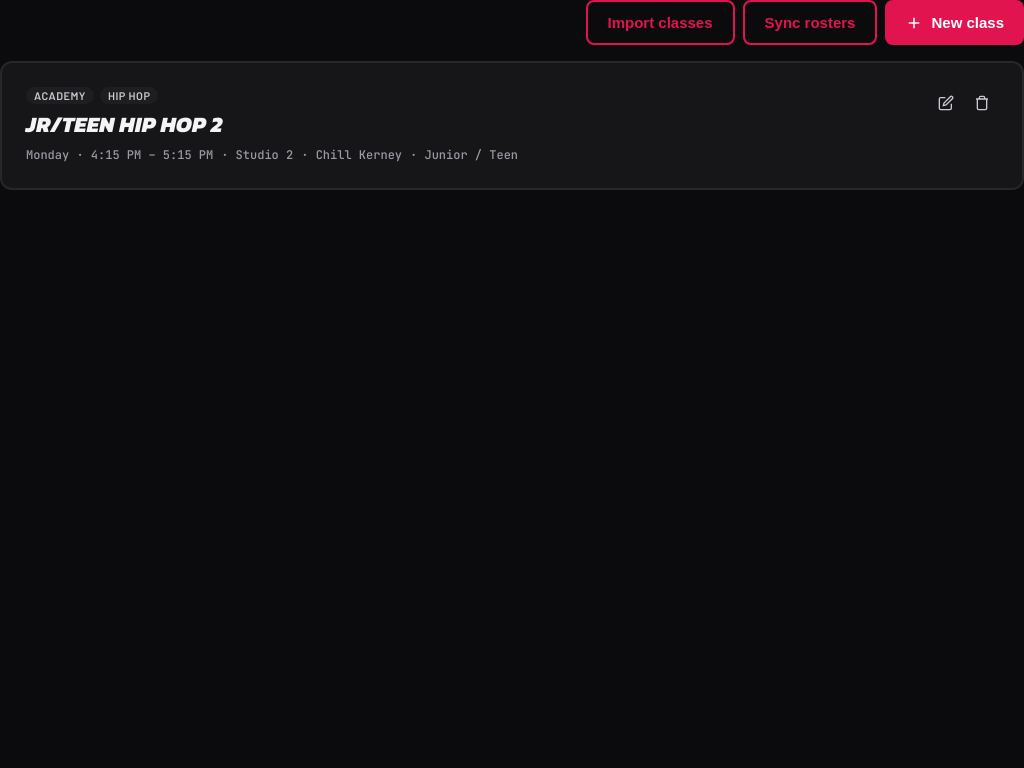
Test: validation › refuses an age range that runs backwards
Click the button named "Edit Jr/Teen Hip Hop 2": (946, 103) [930,87,962,119]
(page scrolled)
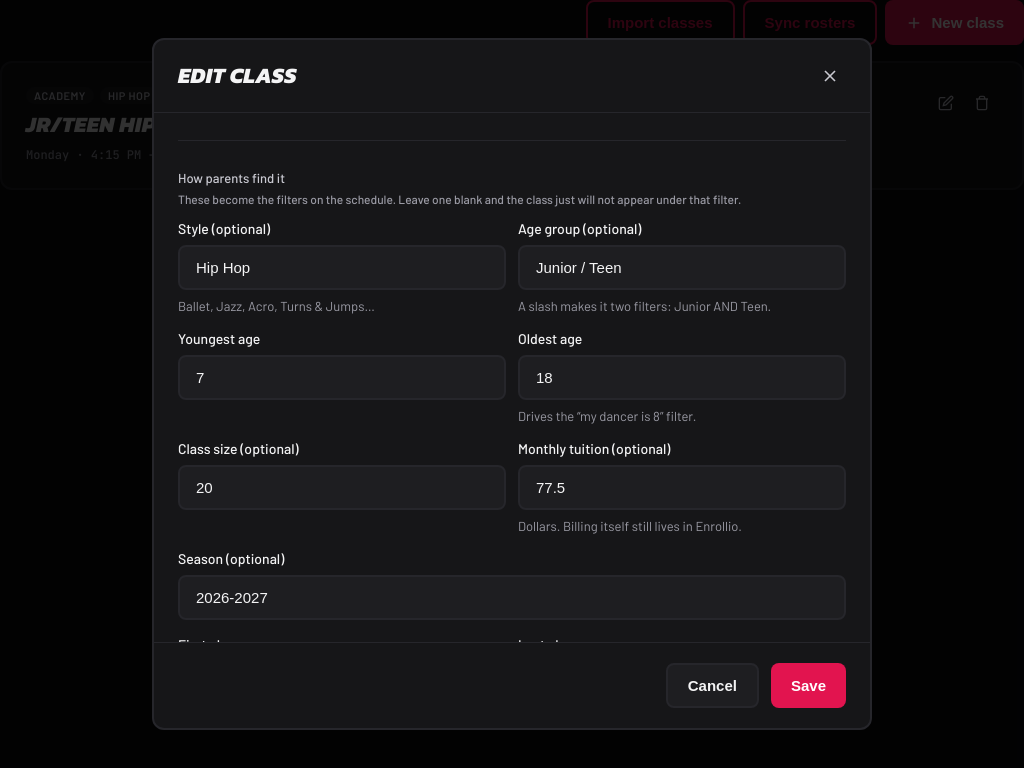
In the number field labelled "Oldest age": (682, 377) [518,355,846,400], type "5"
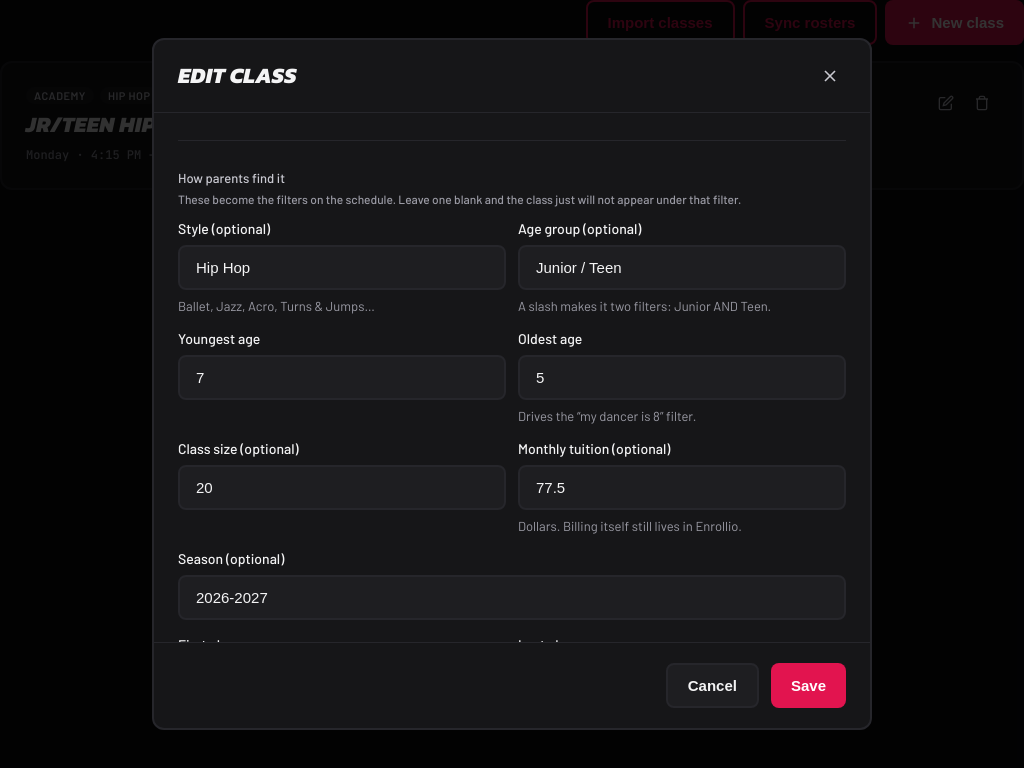
Click the button "Save": (808, 685) [771,663,846,708]
(page scrolled)
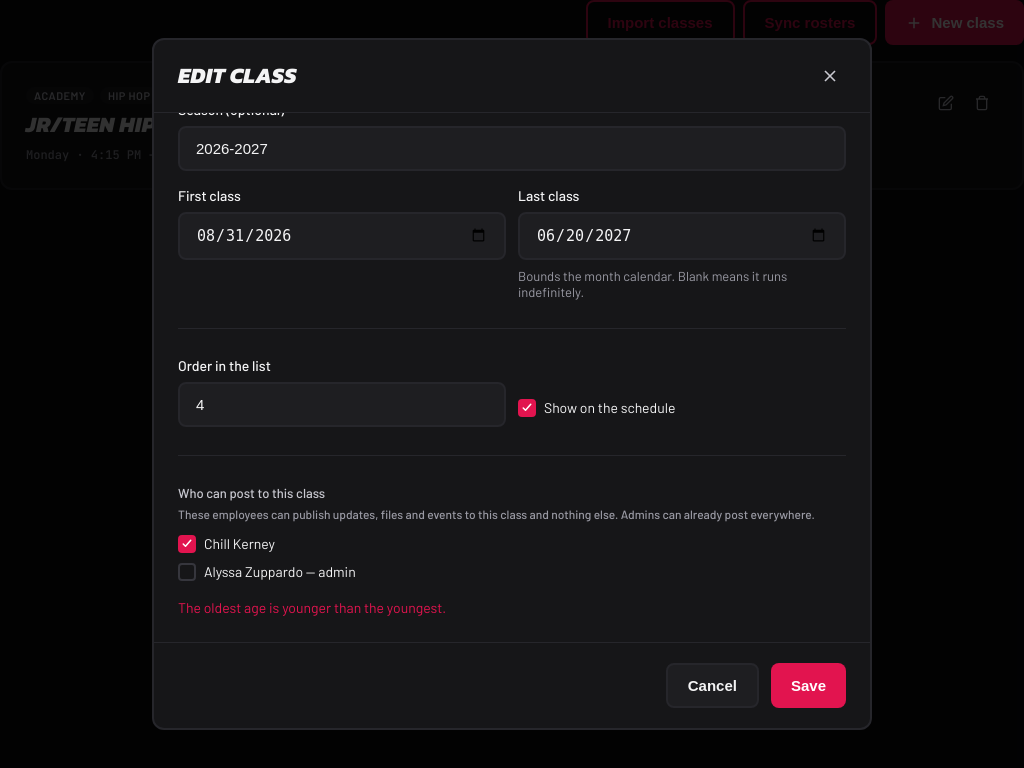
Expected: the text "The oldest age is younger than the youngest." is shown, [178,599,446,616]
